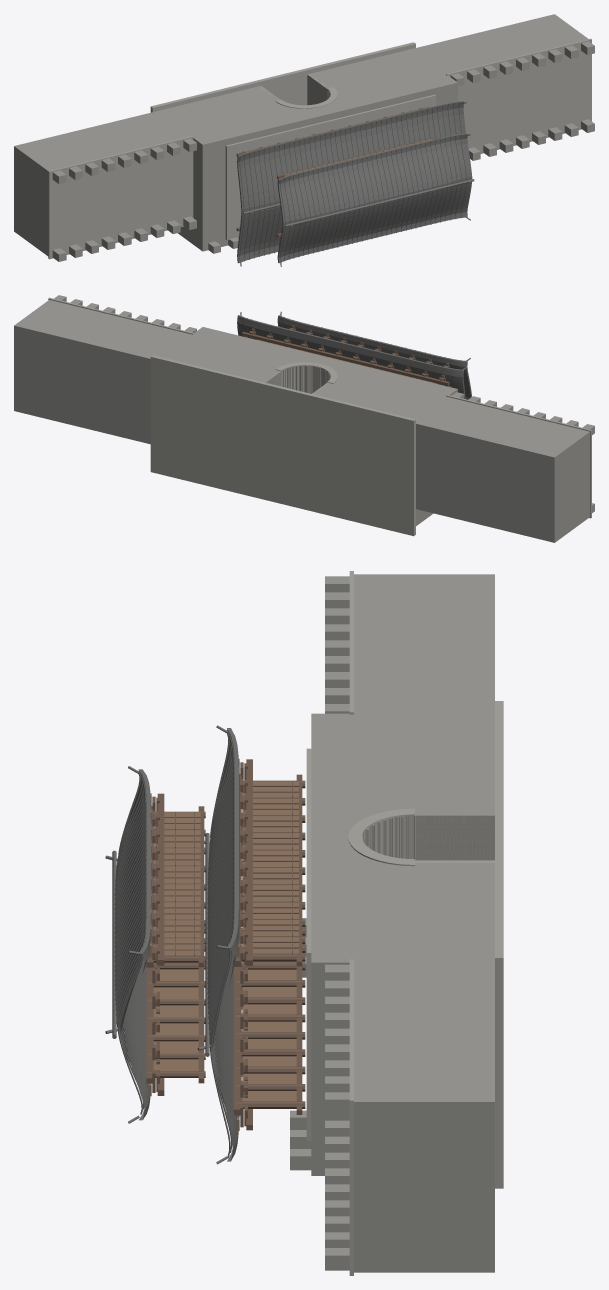
The model's file is SM_Zhengximen_LOD2.glb.
3 views of the same model, one above another, from view 1: azimuth 30°, elevation 25°; view 2: azimuth 150°, elevation 25°; view 3: azimuth 270°, elevation 25° (orthographic). The views are drawn at different scales.
Parts seen in each view (by area): view 1: GrayBrick, StoneFoundation, ClayRoofTile, DarkTimber; view 2: GrayBrick, StoneFoundation, ClayRoofTile, DarkTimber, AgedWood; view 3: GrayBrick, DarkTimber, AgedWood, ClayRoofTile, StoneFoundation.
Part boxes in pixels (left/top/right/bottom): GrayBrick: left=14, top=14, right=594, bottom=261; StoneFoundation: left=48, top=38, right=591, bottom=259; ClayRoofTile: left=237, top=101, right=474, bottom=266; DarkTimber: left=236, top=107, right=438, bottom=237; GrayBrick: left=14, top=295, right=594, bottom=542; StoneFoundation: left=48, top=297, right=591, bottom=536; ClayRoofTile: left=237, top=311, right=471, bottom=399; DarkTimber: left=242, top=327, right=451, bottom=387; AgedWood: left=252, top=325, right=449, bottom=382; GrayBrick: left=290, top=574, right=494, bottom=1272; DarkTimber: left=146, top=759, right=305, bottom=1130; AgedWood: left=148, top=758, right=298, bottom=1130; ClayRoofTile: left=105, top=725, right=239, bottom=1164; StoneFoundation: left=306, top=571, right=503, bottom=1275.
Size of the model in its own units: 53.2 by 10.8 by 16.9.
